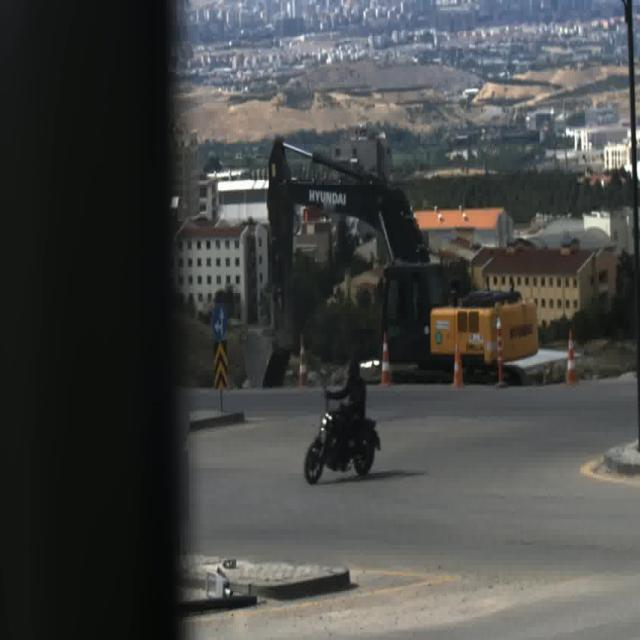Motorcycle: (303, 356, 383, 481)
